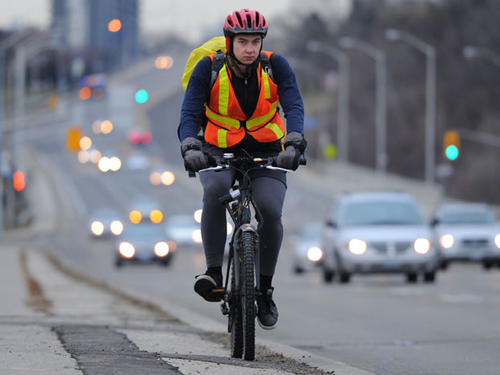bikerider: (171, 5, 301, 370)
